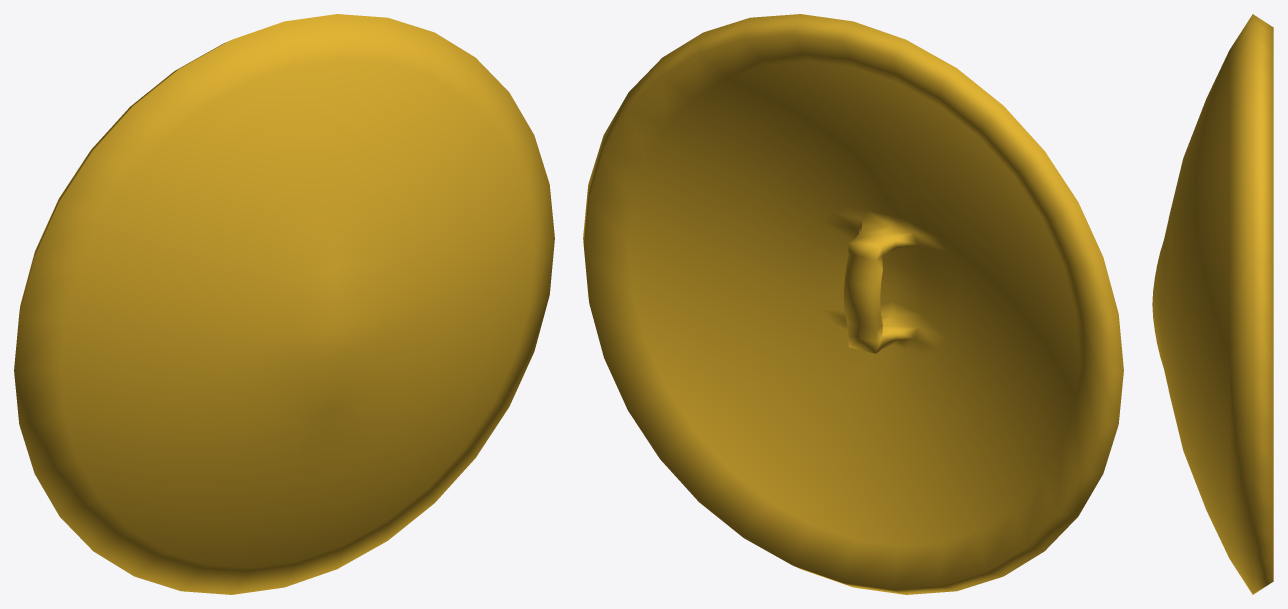
The model's file is Shield.fbx.
The picture shows the model from 3 angles, left to right: view 1: azimuth 30°, elevation 25°; view 2: azimuth 150°, elevation 25°; view 3: azimuth 270°, elevation 25°; orthographic projection. The views are drawn at different scales.
Visible parts, largest first — view 1: Shield; view 2: Shield; view 3: Shield.
Boxes of the visible parts, left/top/right/bottom form: Shield: left=14, top=14, right=554, bottom=594; Shield: left=583, top=14, right=1123, bottom=594; Shield: left=1152, top=14, right=1273, bottom=594.
Size of the model in its own units: 47.01 by 47.01 by 9.8.
